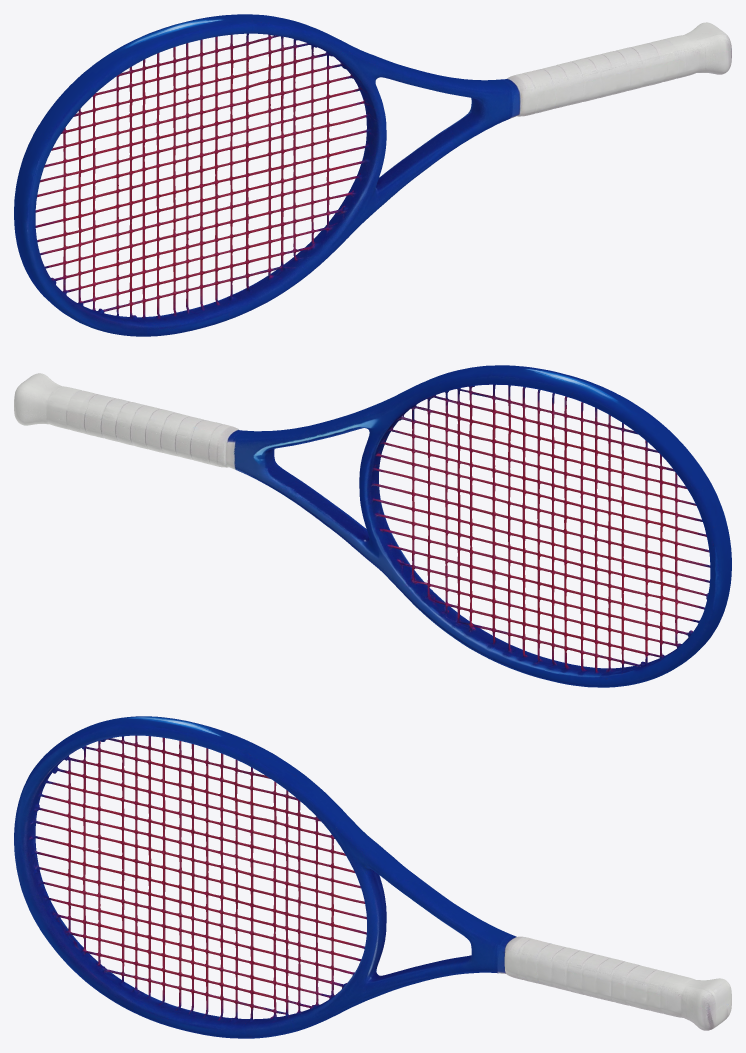
The model's file is Racchetta tennis.glb.
The picture shows the model from 3 angles, top to bottom: view 1: azimuth 30°, elevation 25°; view 2: azimuth 150°, elevation 25°; view 3: azimuth 330°, elevation 25°; orthographic projection.
Parts seen in each view (by area): view 1: 0; view 2: 0; view 3: 0.
Boxes of the visible parts, left/top/right/bottom form: 0: left=14, top=14, right=731, bottom=336; 0: left=14, top=365, right=731, bottom=687; 0: left=14, top=716, right=731, bottom=1038.
Size of the model in its own units: 1.9 by 0.7786 by 0.1229.
Materials: 1 (1 with a texture image).
